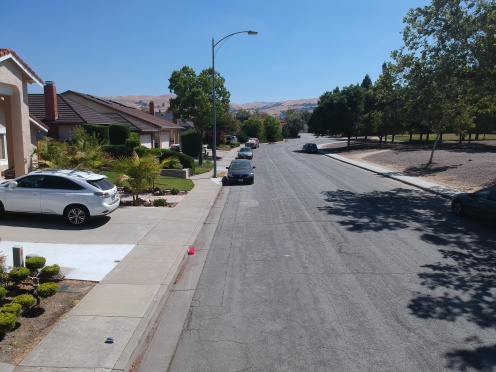can: (103, 333, 115, 344)
plastic bag: (183, 243, 203, 260)
